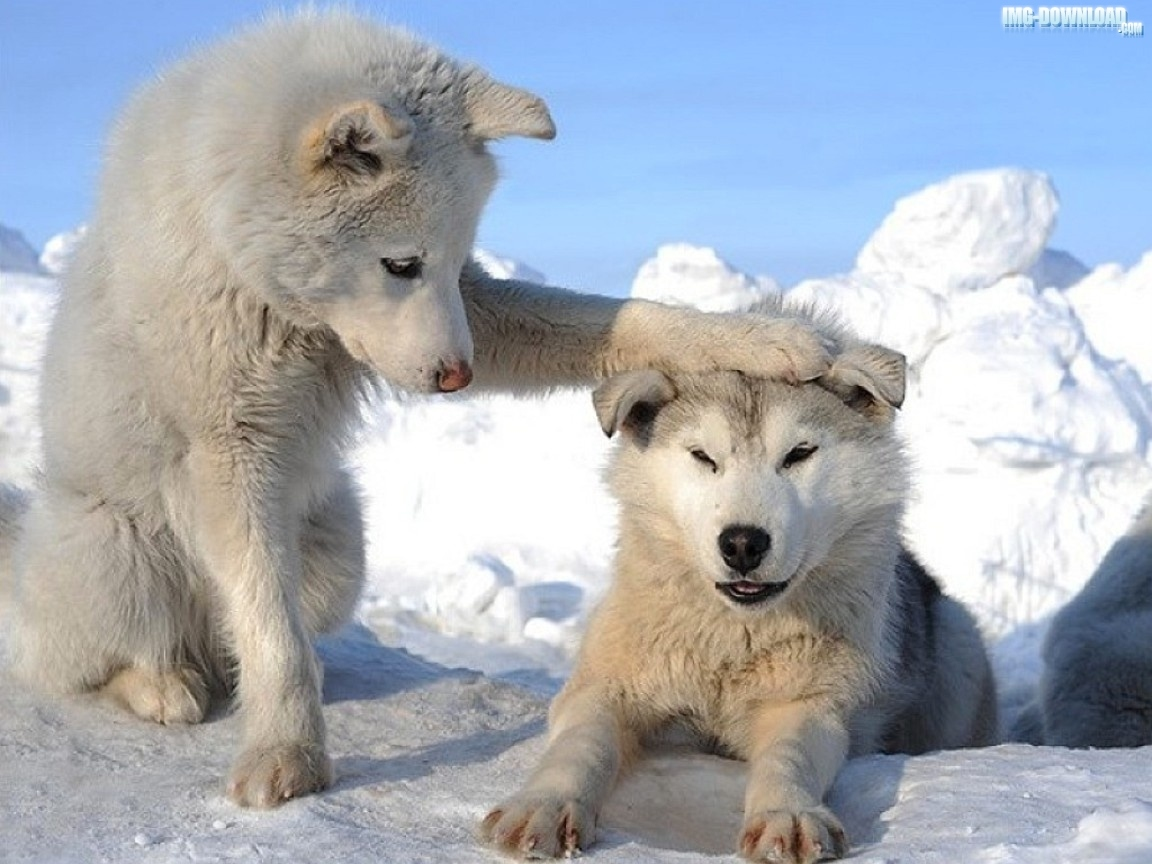wolf: (43, 29, 509, 812), (495, 291, 1009, 859)
